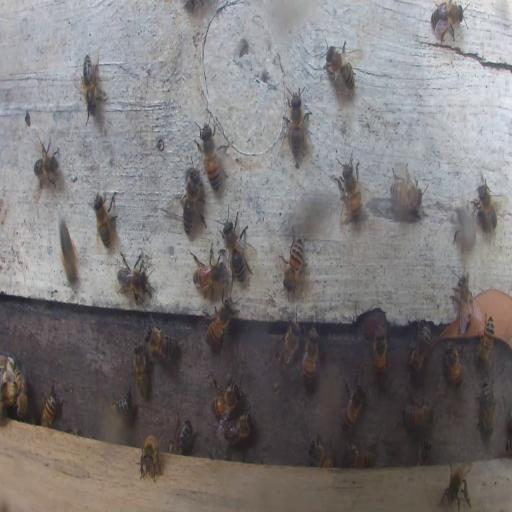nonpollenbee: (220, 208, 253, 280), (115, 253, 155, 306), (180, 169, 208, 236), (285, 84, 309, 162), (323, 40, 356, 96), (32, 134, 61, 195), (338, 152, 362, 224), (440, 461, 473, 511), (92, 191, 120, 249), (389, 171, 424, 217), (197, 122, 220, 191), (192, 249, 222, 297), (430, 2, 466, 42), (80, 53, 103, 115), (341, 378, 367, 432), (453, 274, 475, 336), (475, 176, 499, 232), (282, 235, 304, 296), (209, 380, 240, 422), (144, 324, 178, 362), (408, 323, 432, 373), (278, 318, 301, 370), (206, 302, 232, 346), (139, 434, 163, 481), (402, 396, 433, 429), (40, 381, 61, 429), (456, 206, 478, 251), (478, 380, 495, 437), (302, 326, 318, 386), (476, 314, 495, 362), (224, 411, 252, 443), (132, 343, 148, 398), (444, 342, 464, 386), (172, 416, 194, 454), (110, 383, 135, 416), (372, 323, 386, 376), (14, 368, 28, 419), (344, 444, 372, 468), (309, 440, 334, 466), (2, 367, 14, 412), (418, 437, 432, 464)
pollenbee: (56, 214, 82, 286)
